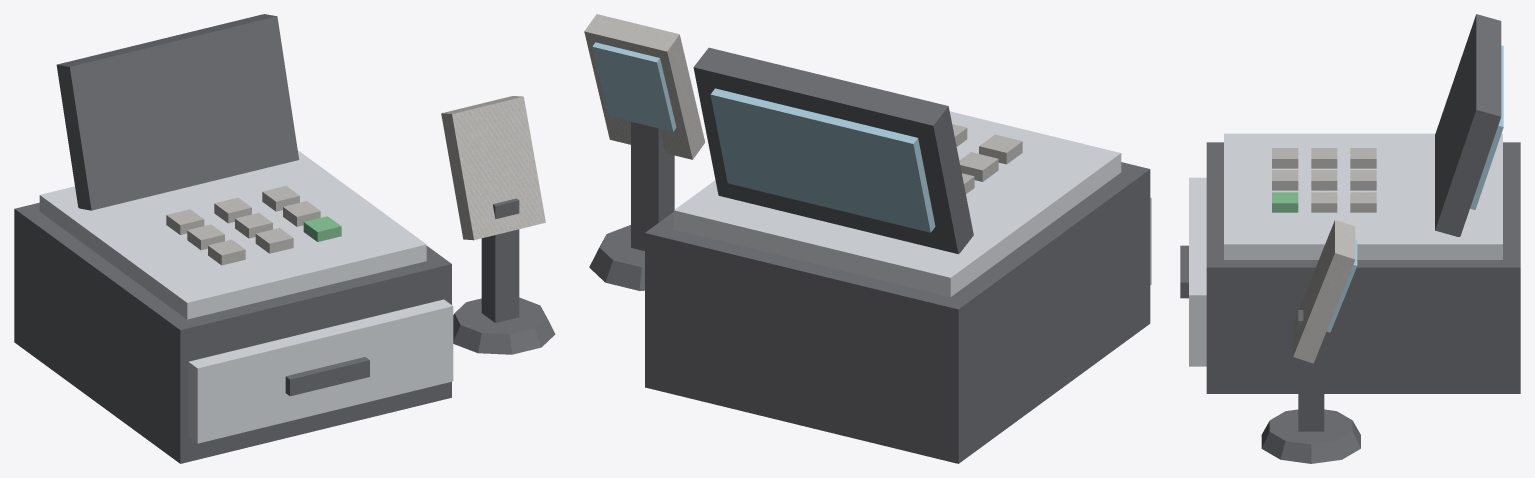
The model's file is street-food-market-and-food-trucks-till-and-card-reade-02f658db__34322.glb.
3 renders of one model, left to right at view 1: azimuth 30°, elevation 25°; view 2: azimuth 150°, elevation 25°; view 3: azimuth 270°, elevation 25°, orthographic. The views are drawn at different scales.
Visible parts, largest first — view 1: till-and-card-reader-charcoal, till-and-card-reader-steel, drawer/steel, till-and-card-reader-concrete, drawer/charcoal, till-and-card-reader-leaf; view 2: till-and-card-reader-charcoal, till-and-card-reader-steel, till-and-card-reader-glass, till-and-card-reader-concrete; view 3: till-and-card-reader-charcoal, till-and-card-reader-steel, till-and-card-reader-concrete, drawer/steel, till-and-card-reader-glass, till-and-card-reader-leaf, drawer/charcoal.
Part boxes in pixels (bbox=[...]): till-and-card-reader-charcoal: bbox=[14, 14, 555, 463]; till-and-card-reader-steel: bbox=[39, 150, 426, 319]; drawer/steel: bbox=[188, 299, 453, 443]; till-and-card-reader-concrete: bbox=[166, 96, 545, 265]; drawer/charcoal: bbox=[285, 357, 369, 396]; till-and-card-reader-leaf: bbox=[303, 216, 341, 241]; till-and-card-reader-charcoal: bbox=[589, 47, 1150, 463]; till-and-card-reader-steel: bbox=[674, 111, 1121, 296]; till-and-card-reader-glass: bbox=[592, 42, 935, 232]; till-and-card-reader-concrete: bbox=[584, 14, 1022, 193]; till-and-card-reader-charcoal: bbox=[1206, 14, 1520, 463]; till-and-card-reader-steel: bbox=[1224, 133, 1502, 259]; till-and-card-reader-concrete: bbox=[1272, 148, 1376, 363]; drawer/steel: bbox=[1189, 177, 1206, 366]; till-and-card-reader-glass: bbox=[1326, 45, 1503, 332]; till-and-card-reader-leaf: bbox=[1272, 192, 1298, 212]; drawer/charcoal: bbox=[1180, 245, 1188, 298].
Bounding box in the file's own units: 0.53 × 0.3409 × 0.39.
5 materials, 1 textured.
